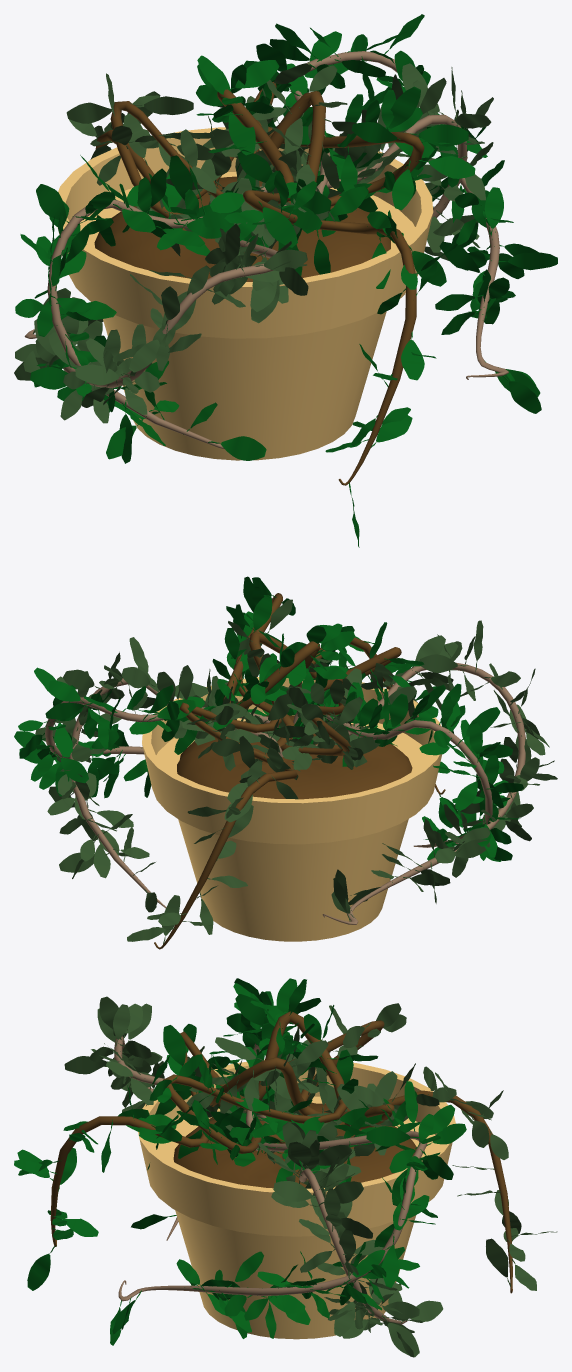
The model's file is plant.fbx.
3 renders of one model, top to bottom at view 1: azimuth 30°, elevation 25°; view 2: azimuth 150°, elevation 25°; view 3: azimuth 270°, elevation 25°, orthographic. The views are drawn at different scales.
Visible parts, largest first — view 1: Cylinder, Sphere, BezierCurve.003, BezierCurve.002, BezierCurve.005, BezierCurve.004, BezierCurve.001, BezierCurve, BezierCurve.003|leaf.001|Dupli|65, BezierCurve.003|leaf.001|Dupli|17, BezierCurve.005|leaf.001|Dupli|2, BezierCurve.003|leaf.001|Dupli|43 (+17 smaller); view 2: Cylinder, Sphere, BezierCurve.002, BezierCurve.003, BezierCurve.001, BezierCurve.005, BezierCurve, BezierCurve.004, BezierCurve.001|leaf|Dupli|57, BezierCurve.004|leaf.001|Dupli|58, BezierCurve.003|leaf.001|Dupli|21, BezierCurve.004|leaf.001|Dupli|40 (+2 smaller); view 3: Cylinder, BezierCurve.003, Sphere, BezierCurve.002, BezierCurve.004, BezierCurve, BezierCurve.004|leaf.001|Dupli|64, BezierCurve.003|leaf.001|Dupli|67, BezierCurve.003|leaf.001|Dupli|99, BezierCurve|leaf|Dupli|46, BezierCurve|leaf|Dupli|10, BezierCurve.005|leaf.001|Dupli|55 (+10 smaller).
Part boxes in pixels (<box>): Cylinder: <box>57,127,433,460</box>; Sphere: <box>94,176,390,281</box>; BezierCurve.003: <box>217,89,424,485</box>; BezierCurve.002: <box>95,82,325,218</box>; BezierCurve.005: <box>47,199,286,449</box>; BezierCurve.004: <box>290,51,508,379</box>; BezierCurve.001: <box>24,240,277,388</box>; BezierCurve: <box>260,114,467,217</box>; BezierCurve.003|leaf.001|Dupli|65: <box>258,201,297,247</box>; BezierCurve.003|leaf.001|Dupli|17: <box>405,124,468,146</box>; BezierCurve.005|leaf.001|Dupli|2: <box>208,436,266,460</box>; BezierCurve.003|leaf.001|Dupli|43: <box>230,60,279,89</box>; Cylinder: <box>142,677,441,941</box>; Sphere: <box>177,715,412,799</box>; BezierCurve.002: <box>154,632,350,949</box>; BezierCurve.003: <box>223,593,445,794</box>; BezierCurve.001: <box>315,662,525,924</box>; BezierCurve.005: <box>293,705,492,847</box>; BezierCurve: <box>69,678,283,908</box>; BezierCurve.004: <box>45,697,279,758</box>; BezierCurve.001|leaf|Dupli|57: <box>420,654,468,672</box>; BezierCurve.004|leaf.001|Dupli|58: <box>45,680,89,706</box>; BezierCurve.003|leaf.001|Dupli|21: <box>253,595,272,632</box>; BezierCurve.004|leaf.001|Dupli|40: <box>55,753,88,783</box>; Cylinder: <box>138,1059,455,1339</box>; BezierCurve.003: <box>50,1011,347,1246</box>; Sphere: <box>173,1102,416,1188</box>; BezierCurve.002: <box>210,1020,512,1293</box>; BezierCurve.004: <box>118,1131,427,1301</box>; BezierCurve: <box>299,1167,407,1324</box>; BezierCurve.004|leaf.001|Dupli|64: <box>366,1126,419,1146</box>; BezierCurve.003|leaf.001|Dupli|67: <box>163,1025,185,1065</box>; BezierCurve.003|leaf.001|Dupli|99: <box>27,1245,56,1290</box>; BezierCurve|leaf|Dupli|46: <box>273,1181,316,1201</box>; BezierCurve|leaf|Dupli|10: <box>382,1313,419,1357</box>; BezierCurve.005|leaf.001|Dupli|55: <box>235,994,269,1025</box>.
Bounding box in the file's own units: 410 × 260 × 410.
